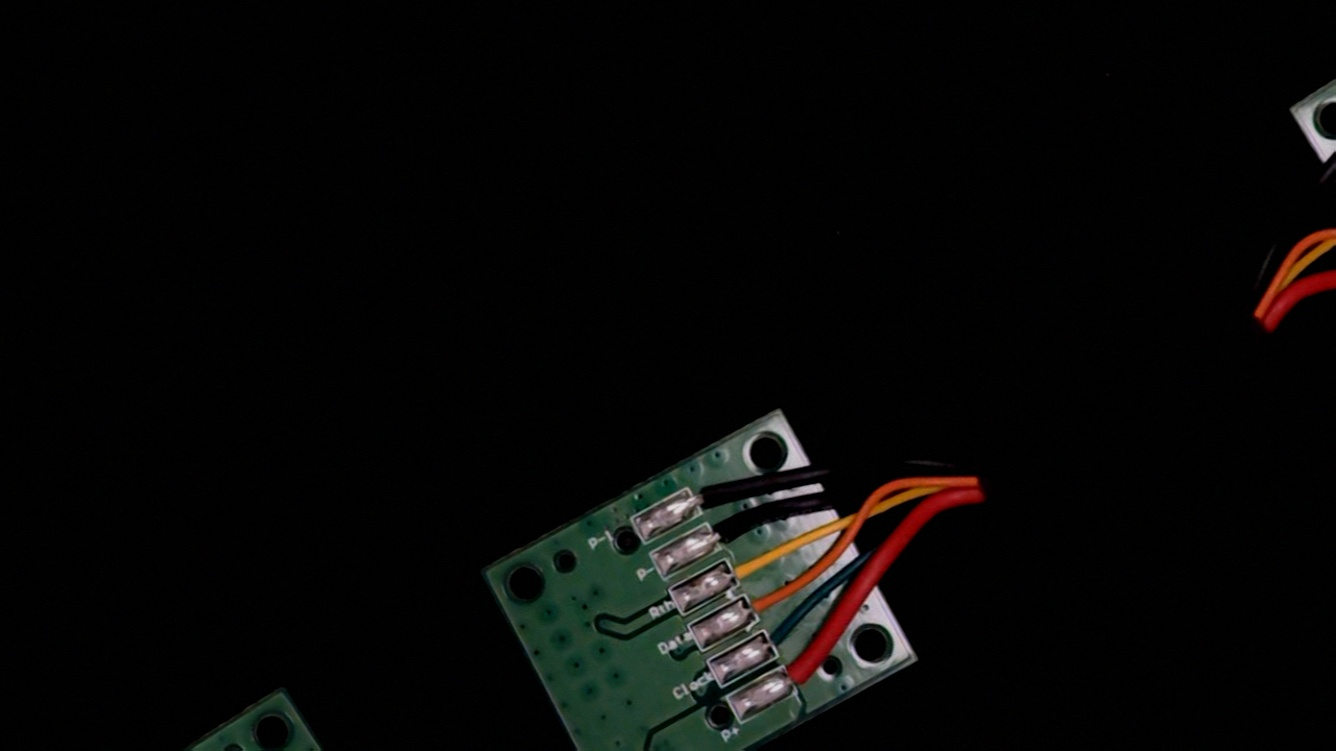Black: (693, 499, 764, 561)
Black1: (671, 469, 733, 524)
Green: (752, 610, 813, 665)
Orange: (731, 569, 805, 629)
Red: (771, 641, 840, 699)
Yellow: (711, 535, 791, 600)
